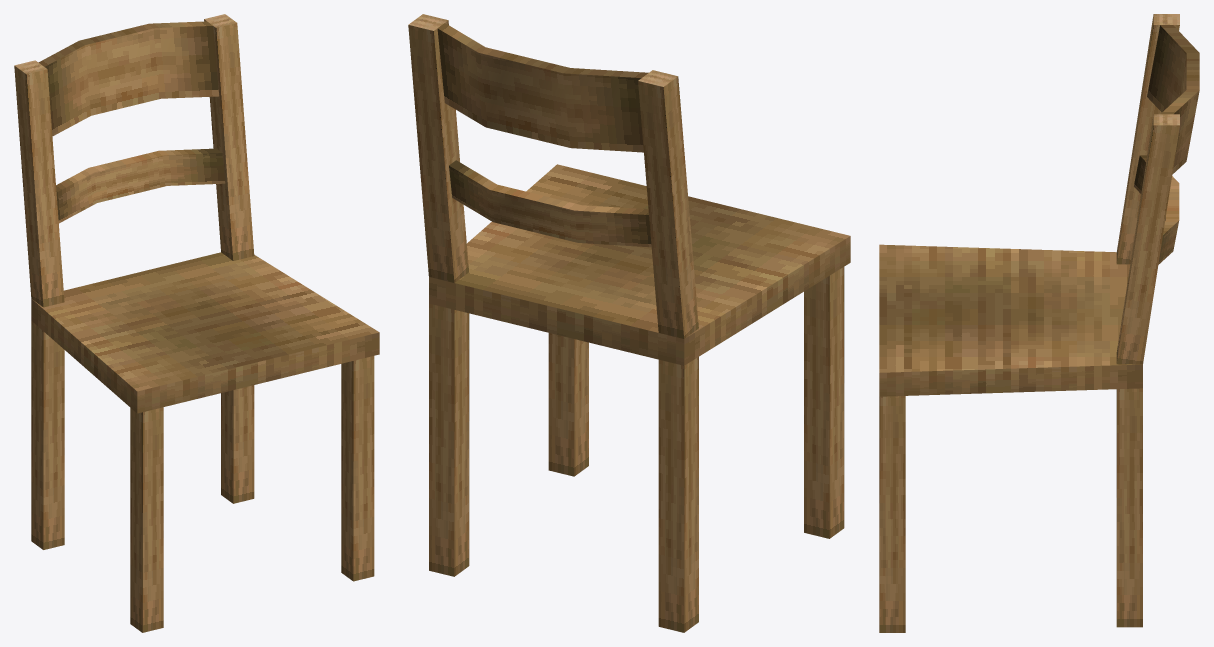
Rendered from ChairWood.glb.
3 renders of one model, left to right at view 1: azimuth 30°, elevation 25°; view 2: azimuth 150°, elevation 25°; view 3: azimuth 270°, elevation 25°, orthographic. The views are drawn at different scales.
Visible parts, largest first — view 1: CHAIRWOOD; view 2: CHAIRWOOD; view 3: CHAIRWOOD.
Part boxes in pixels (left/top/right/bottom): CHAIRWOOD: left=14, top=14, right=379, bottom=632; CHAIRWOOD: left=408, top=14, right=850, bottom=632; CHAIRWOOD: left=879, top=14, right=1199, bottom=632.
Bounding box in the file's own units: 0.46 × 0.84 × 0.486.
1 material, 1 textured.
